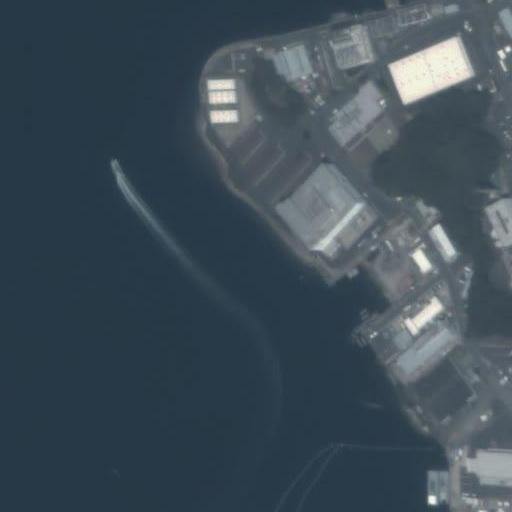person: (110, 159, 120, 174)
